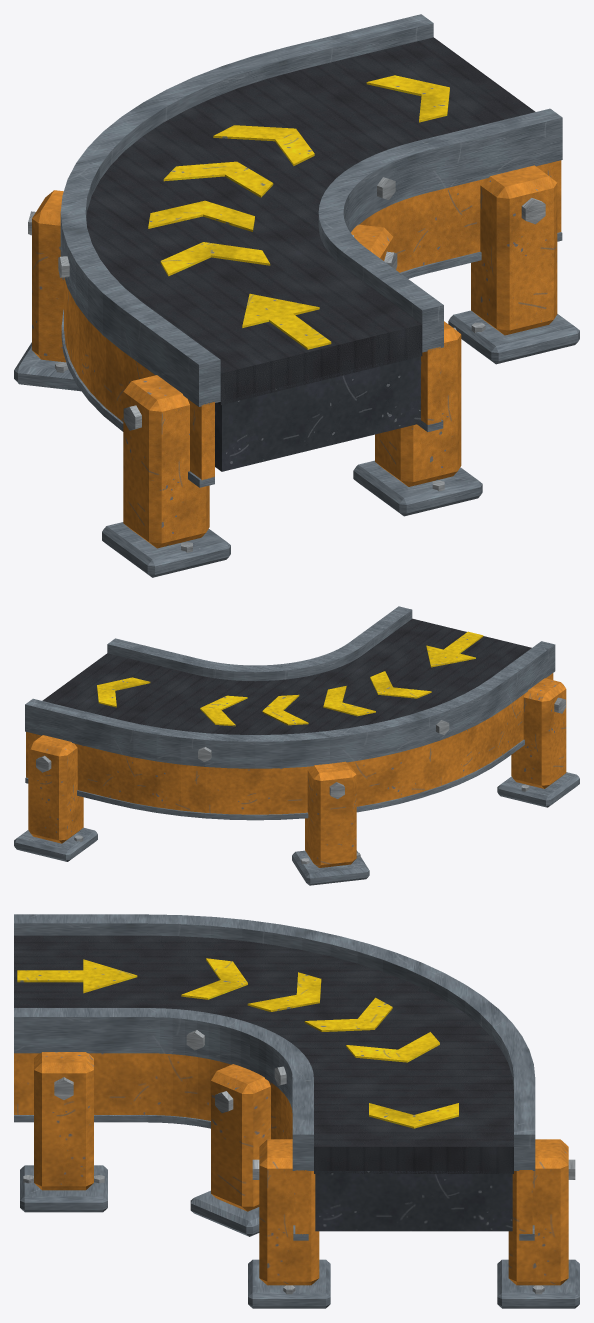
The model's file is conveyor_curve.fbx.
3 renders of one model, top to bottom at view 1: azimuth 30°, elevation 25°; view 2: azimuth 150°, elevation 25°; view 3: azimuth 270°, elevation 25°, orthographic. The views are drawn at different scales.
Parts seen in each view (by area): view 1: ConveyorCurve_Belt, ConveyorCurve_SteelGrey, ConveyorCurve_Orange, ConveyorCurve_DarkGrey, ConveyorCurve_Yellow, ConveyorCurve_SteelLight; view 2: ConveyorCurve_Orange, ConveyorCurve_SteelGrey, ConveyorCurve_Belt, ConveyorCurve_Yellow, ConveyorCurve_SteelLight; view 3: ConveyorCurve_Belt, ConveyorCurve_SteelGrey, ConveyorCurve_Orange, ConveyorCurve_DarkGrey, ConveyorCurve_Yellow, ConveyorCurve_SteelLight.
Part boxes in pixels (box(x1,y1,x2,y2)): ConveyorCurve_Belt: box(86, 37, 535, 405); ConveyorCurve_SteelGrey: box(14, 14, 579, 577); ConveyorCurve_Orange: box(32, 160, 561, 548); ConveyorCurve_DarkGrey: box(215, 353, 420, 471); ConveyorCurve_Yellow: box(148, 75, 449, 349); ConveyorCurve_SteelLight: box(28, 177, 545, 552); ConveyorCurve_Orange: box(26, 673, 566, 867); ConveyorCurve_SteelGrey: box(14, 606, 579, 885); ConveyorCurve_Belt: box(42, 618, 531, 734); ConveyorCurve_Yellow: box(97, 631, 483, 726); ConveyorCurve_SteelLight: box(36, 697, 565, 864); ConveyorCurve_Belt: box(14, 935, 513, 1173); ConveyorCurve_SteelGrey: box(14, 914, 579, 1308); ConveyorCurve_Orange: box(14, 1052, 568, 1285); ConveyorCurve_DarkGrey: box(315, 1171, 512, 1231); ConveyorCurve_Yellow: box(17, 958, 458, 1128); ConveyorCurve_SteelLight: box(23, 1030, 575, 1294).
Size of the model in its own units: 8.49 by 2.95 by 8.49.
6 materials, 6 textured.
